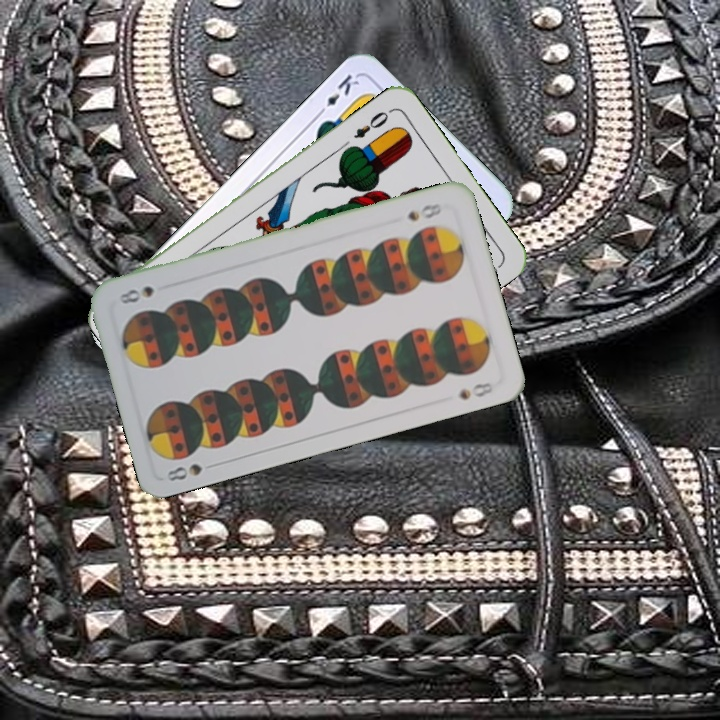EK: (312, 70, 362, 119)
EO: (349, 105, 395, 141)
S8: (162, 459, 221, 484), (404, 199, 444, 224)
